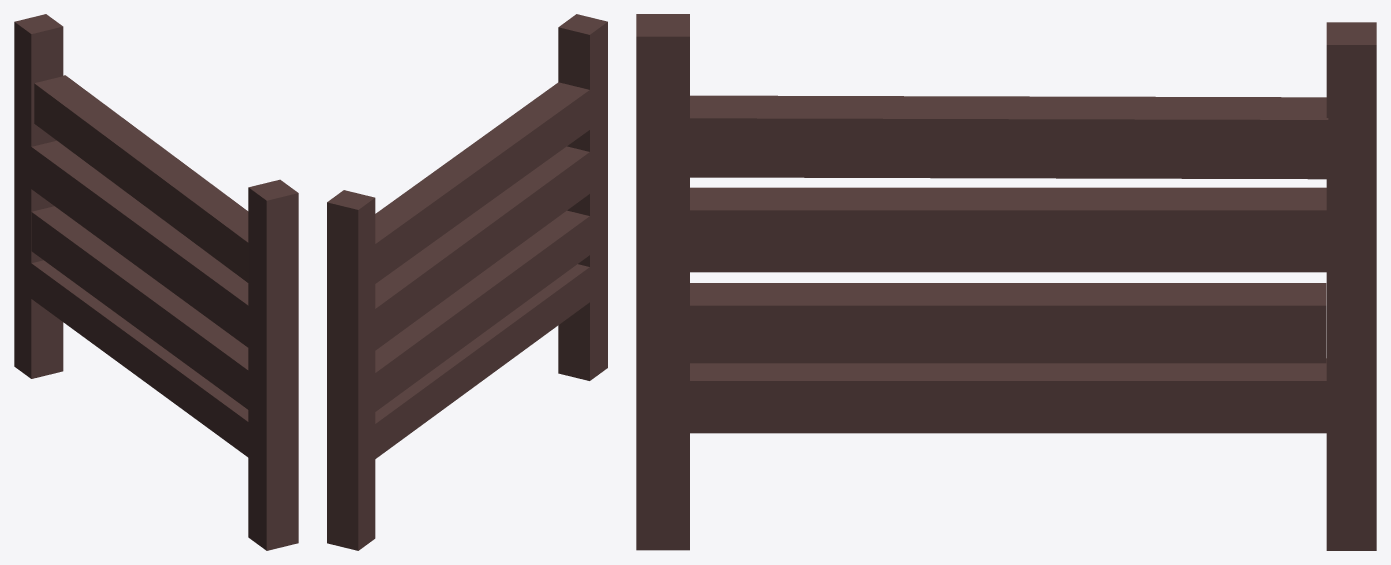
Rendered from Fence.fbx.
3 views of the same model, side by side, from view 1: azimuth 30°, elevation 25°; view 2: azimuth 150°, elevation 25°; view 3: azimuth 270°, elevation 25° (orthographic). The views are drawn at different scales.
Parts seen in each view (by area): view 1: Cube; view 2: Cube; view 3: Cube.
Boxes of the visible parts, x1=… form: Cube: x1=14, y1=14, x2=298, y2=550; Cube: x1=327, y1=14, x2=607, y2=550; Cube: x1=636, y1=14, x2=1376, y2=550.
Size of the model in its own units: 10.77 by 105 by 137.
